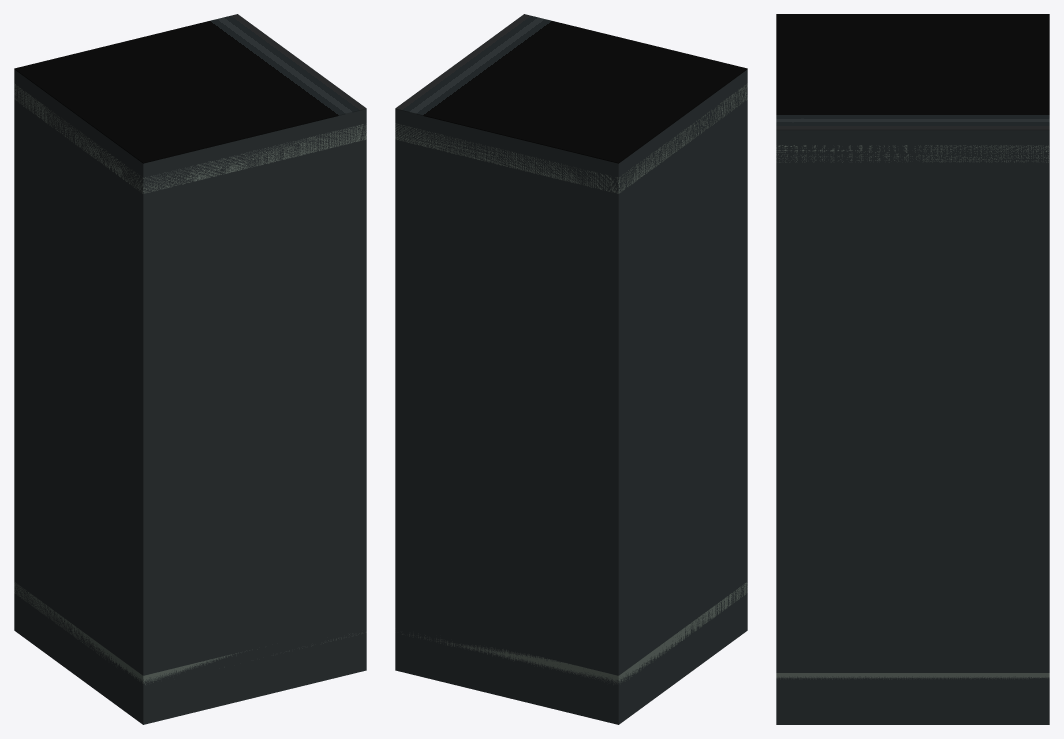
File: CMU3DInteriorVehicleTankBack2.glb
3 renders of one model, left to right at view 1: azimuth 30°, elevation 25°; view 2: azimuth 150°, elevation 25°; view 3: azimuth 270°, elevation 25°, orthographic. The views are drawn at different scales.
Parts seen in each view (by area): view 1: cabin bulkhead, cabin bulkhead source finish, upper armor trim, lower armor trim; view 2: cabin bulkhead, cabin bulkhead source finish, upper armor trim, lower armor trim; view 3: cabin bulkhead, cabin bulkhead source finish, lower armor trim, upper armor trim.
Boxes of the visible parts, left/top/right/bottom form: cabin bulkhead: left=14, top=69, right=366, bottom=724; cabin bulkhead source finish: left=14, top=14, right=366, bottom=163; upper armor trim: left=14, top=83, right=366, bottom=193; lower armor trim: left=14, top=582, right=366, bottom=684; cabin bulkhead: left=395, top=69, right=747, bottom=724; cabin bulkhead source finish: left=395, top=14, right=747, bottom=163; upper armor trim: left=395, top=83, right=747, bottom=193; lower armor trim: left=401, top=582, right=747, bottom=684; cabin bulkhead: left=776, top=130, right=1049, bottom=724; cabin bulkhead source finish: left=776, top=14, right=1049, bottom=130; lower armor trim: left=776, top=673, right=1049, bottom=679; upper armor trim: left=776, top=145, right=1049, bottom=162.
Bounding box in the file's own units: 1 × 2.4 × 1.
Materials: 4 (1 with a texture image).
